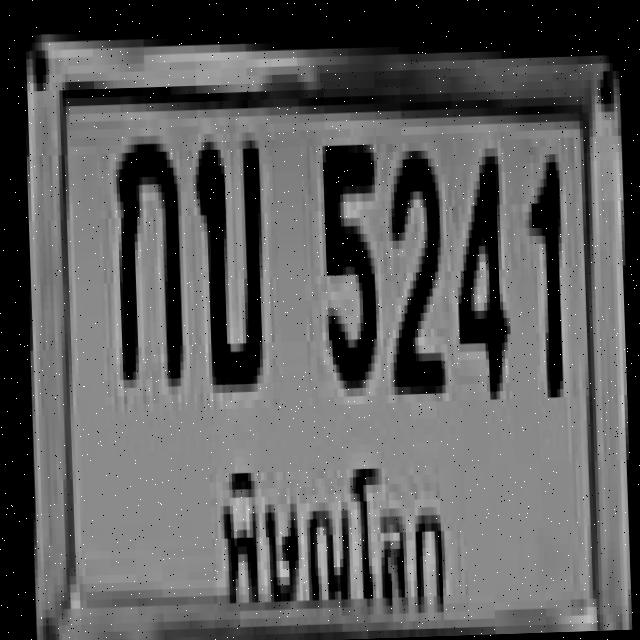1: (524, 146, 564, 390)
10GorGai: (111, 134, 180, 380)
2: (382, 142, 442, 387)
35BorBaiMai: (192, 132, 264, 384)
4: (448, 148, 507, 392)
5: (318, 136, 378, 380)
Phitsanulok: (204, 430, 456, 634)
